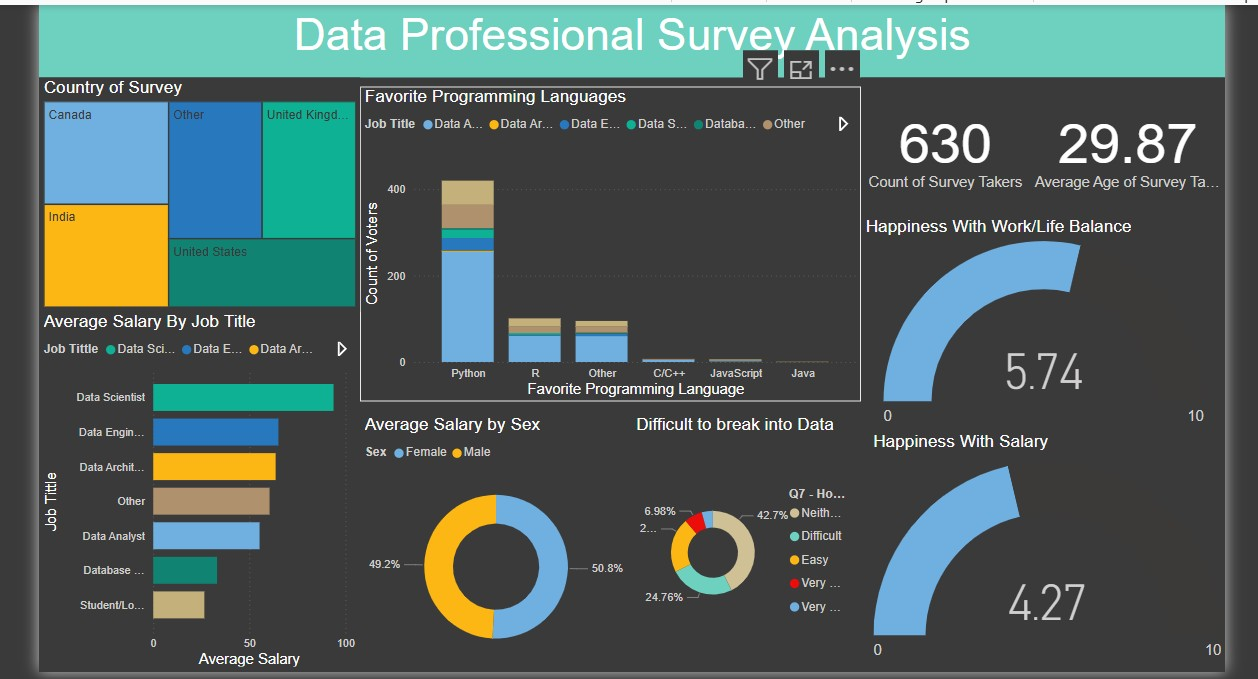

Layout of this report page (visuals, bound fields, positions):
{"tool":"powerbi","page":{"name":"Page 1","canvas":[1280,720],"ordinal":0},"visuals":[{"type":"textbox","box":[0,0,1280.8,79.3],"z":0},{"type":"card","fields":{"Values":["CountNonNull(Data Professional Survey.Unique ID)"]},"box":[887.3,79.3,181.4,149],"z":1000},{"type":"card","fields":{"Values":["Avg(Data Professional Survey.Q10 - Current Age)"]},"box":[1068.7,79.3,212.1,150.6],"z":2000},{"type":"barChart","title":"Average Salary By Job Title","fields":{"Category":["Data Professional Survey.Q1 - Which Title Best Fits your Current Role?.1"],"Y":["Avg(Data Professional Survey.Average Salary)"],"Series":["Data Professional Survey.Q1 - Which Title Best Fits your Current Role?.1"]},"box":[0,331.9,346.5,388.6],"z":3000},{"type":"columnChart","title":"Favorite Programming Languages","fields":{"Category":["Data Professional Survey.Q5 - Favorite Programming Language.1"],"Y":["CountNonNull(Data Professional Survey.Unique ID)"],"Series":["Data Professional Survey.Q1 - Which Title Best Fits your Current Role?.1"]},"box":[346.5,89.1,540.8,340],"z":4000},{"type":"treemap","title":"Country of Survey","fields":{"Values":["Count(Data Professional Survey.Q11 - Which Country do you live in?.1)"],"Group":["Data Professional Survey.Q11 - Which Country do you live in?.1"]},"box":[0,79.3,346.5,252.6],"z":5000},{"type":"gauge","title":"Happiness With Work/Life Balance","fields":{"Y":["Avg(Data Professional Survey.Q6 - How Happy are you in your Current Position with the following? (Work/Life Balance))"],"MinValue":["Min(Data Professional Survey.Q6 - How Happy are you in your Current Position with the following? (Work/Life Balance))"],"MaxValue":["Max(Data Professional Survey.Q6 - How Happy are you in your Current Position with the following? (Work/Life Balance))1"]},"box":[887.3,229.9,393.5,231.5],"z":6000},{"type":"gauge","title":"Happiness With Salary","fields":{"Y":["Avg(Data Professional Survey.Q6 - How Happy are you in your Current Position with the following? (Salary))"],"MinValue":["Min(Data Professional Survey.Q6 - How Happy are you in your Current Position with the following? (Salary))"],"MaxValue":["Max(Data Professional Survey.Q6 - How Happy are you in your Current Position with the following? (Salary))"]},"box":[895.4,461.5,385.4,259.1],"z":7000},{"type":"donutChart","title":" Average Salary by Sex","fields":{"Category":["Data Professional Survey.Q9 - Male/Female?"],"Y":["Avg(Data Professional Survey.Average Salary)","select"]},"box":[346.5,443.7,293.1,276.9],"z":8000},{"type":"donutChart","title":"Difficult to break into Data","fields":{"Category":["Data Professional Survey.Q7 - How difficult was it for you to break into Data?"],"Y":["CountNonNull(Data Professional Survey.Q7 - How difficult was it for you to break into Data?)"]},"box":[640,444,247,276],"z":9000}]}

Visuals, with their boxes in screenshot pixels (x1, y1, x2, y2):
textbox: {"x1": 36, "y1": 0, "x2": 1226, "y2": 74}
card - CountNonNull(Data Professional Survey.Unique ID): {"x1": 860, "y1": 74, "x2": 1029, "y2": 212}
card - Avg(Data Professional Survey.Q10 - Current Age): {"x1": 1029, "y1": 74, "x2": 1226, "y2": 214}
"Average Salary By Job Title" barChart: {"x1": 36, "y1": 308, "x2": 358, "y2": 669}
"Favorite Programming Languages" columnChart: {"x1": 358, "y1": 83, "x2": 860, "y2": 399}
"Country of Survey" treemap: {"x1": 36, "y1": 74, "x2": 358, "y2": 308}
"Happiness With Work/Life Balance" gauge: {"x1": 860, "y1": 214, "x2": 1226, "y2": 429}
"Happiness With Salary" gauge: {"x1": 868, "y1": 429, "x2": 1226, "y2": 669}
" Average Salary by Sex" donutChart: {"x1": 358, "y1": 412, "x2": 630, "y2": 669}
"Difficult to break into Data" donutChart: {"x1": 630, "y1": 412, "x2": 860, "y2": 669}
